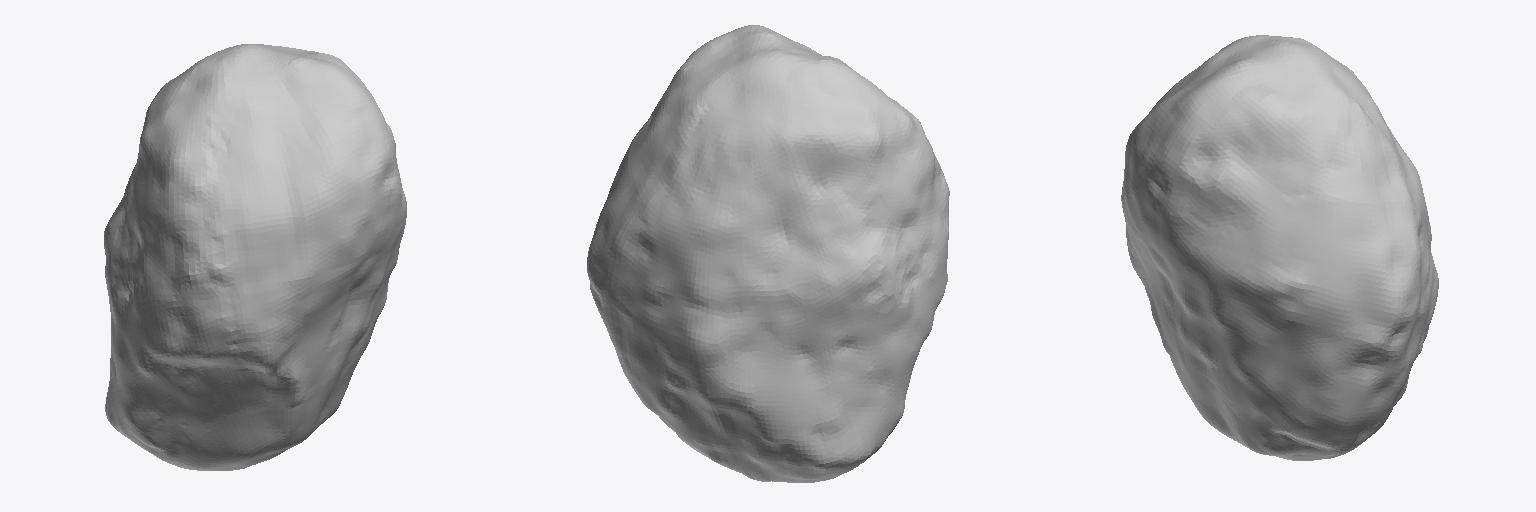
The model's file is Hyperion Thomas (UV Wraped).obj.
The picture shows the model from 3 angles: view 1: azimuth 30°, elevation 25°; view 2: azimuth 150°, elevation 25°; view 3: azimuth 270°, elevation 25°; orthographic projection.
Parts seen in each view (by area): view 1: Hyperion_Thomas_2018; view 2: Hyperion_Thomas_2018; view 3: Hyperion_Thomas_2018.
Part boxes in pixels (x1,y1,x2,y2): Hyperion_Thomas_2018: (104, 44, 406, 470); Hyperion_Thomas_2018: (587, 25, 949, 482); Hyperion_Thomas_2018: (1121, 35, 1438, 460).
Bounding box in the file's own units: 0.7711 × 1.08 × 0.7496.